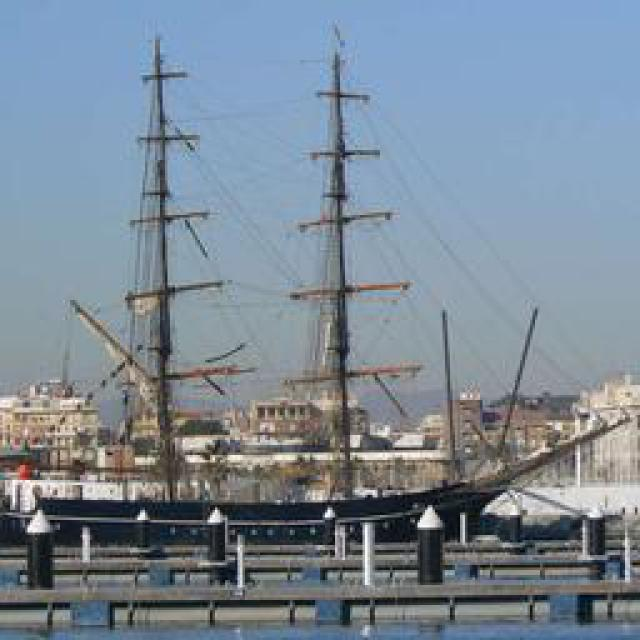Ship: (11, 21, 551, 564)
